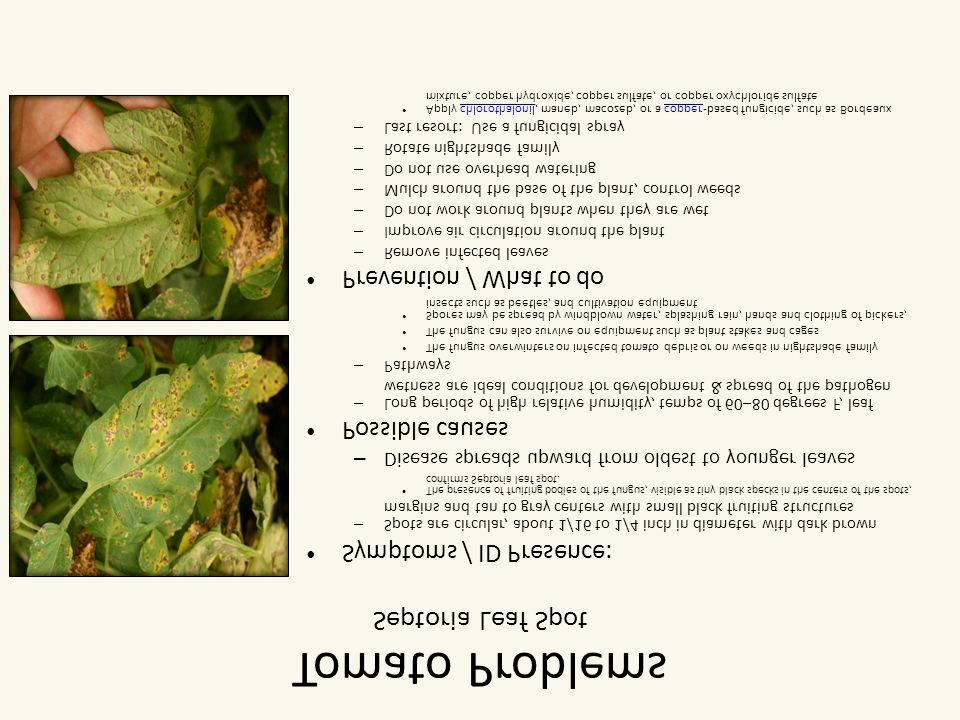Tomato Septoria leaf spot: (69, 350, 286, 534), (14, 107, 206, 289), (190, 168, 284, 310)
